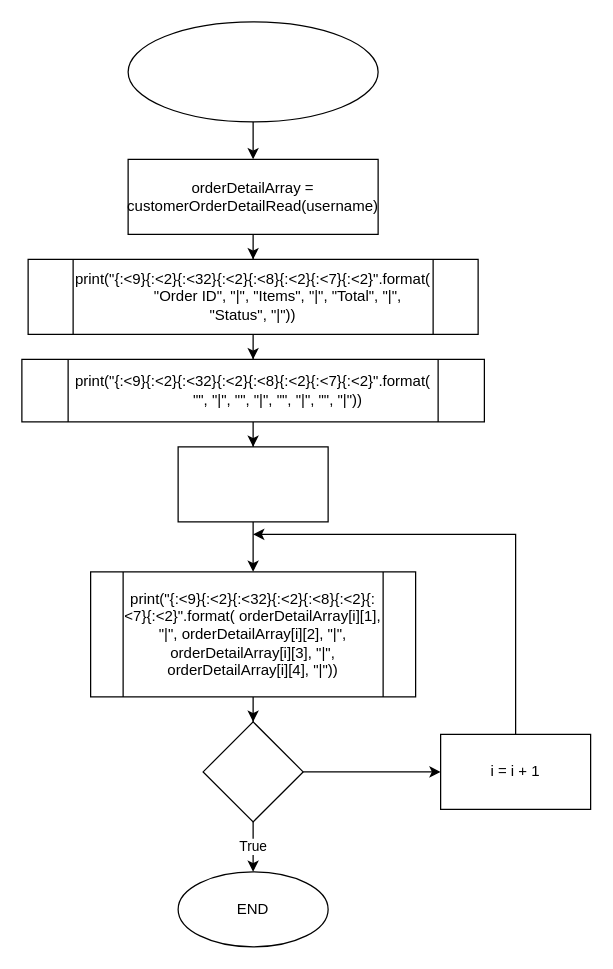
Image size: 613x969. Some labels were removed from this diagram. The centre of each missing label's shape, as x and y in pixels:
customerOrderPrint(username: str): point 252,71
Last Loop?: point 252,771
Loop len(orderDetailArray), i as counter: point 252,484
